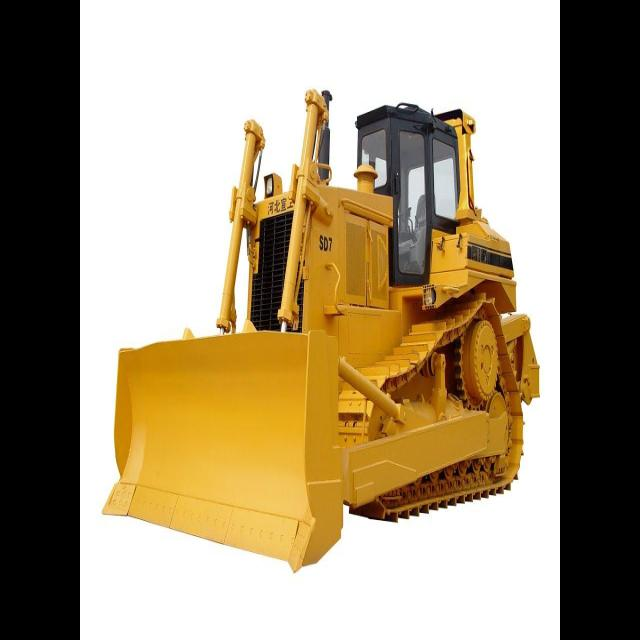buldozerpayloadergrader: (100, 66, 566, 586)
